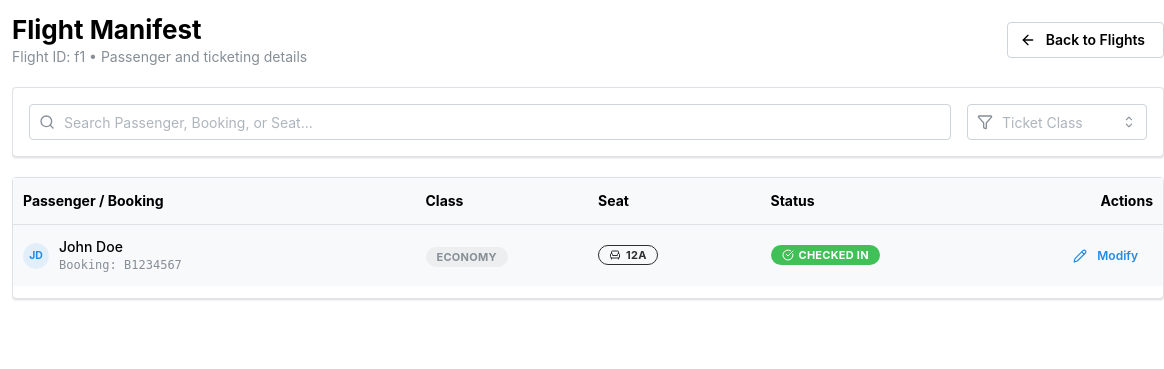
FlightTicketManagement Component › filters tickets by passenger name
This screenshot has width=1164, height=369.
In the field with placeholder "Search Passenger, Booking, or Seat...": (490,122) [29,104,951,140], type "Jane"
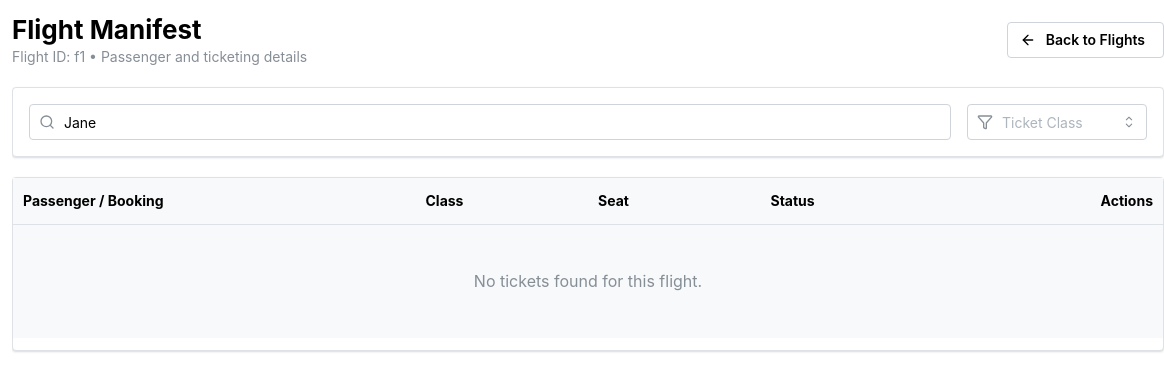
Expected: the text "No tickets found for this flight." is shown, [474,271,702,291]
